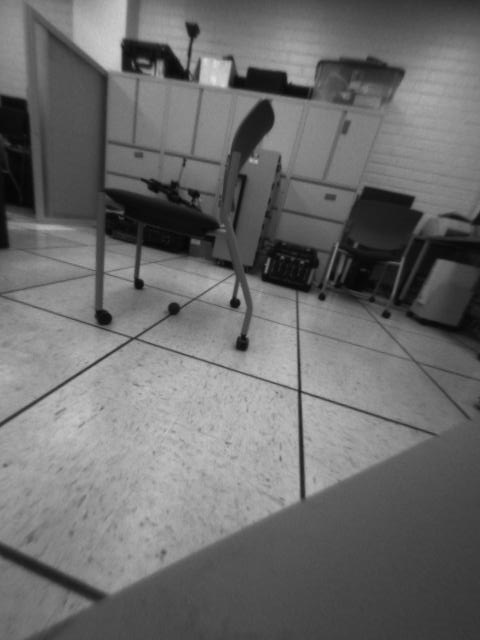dogtoy: (163, 295, 185, 322)
